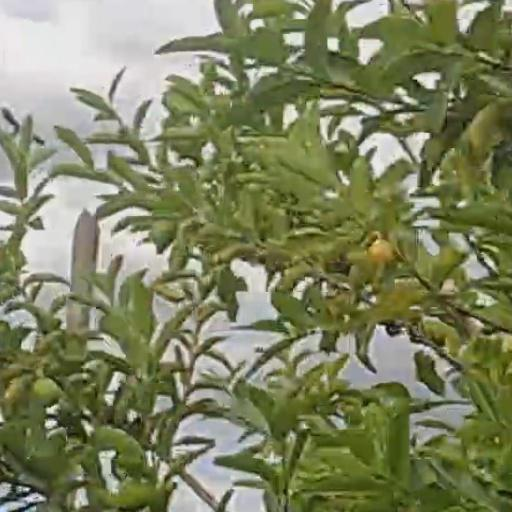acerola: (34, 381, 60, 407), (368, 238, 393, 263)
